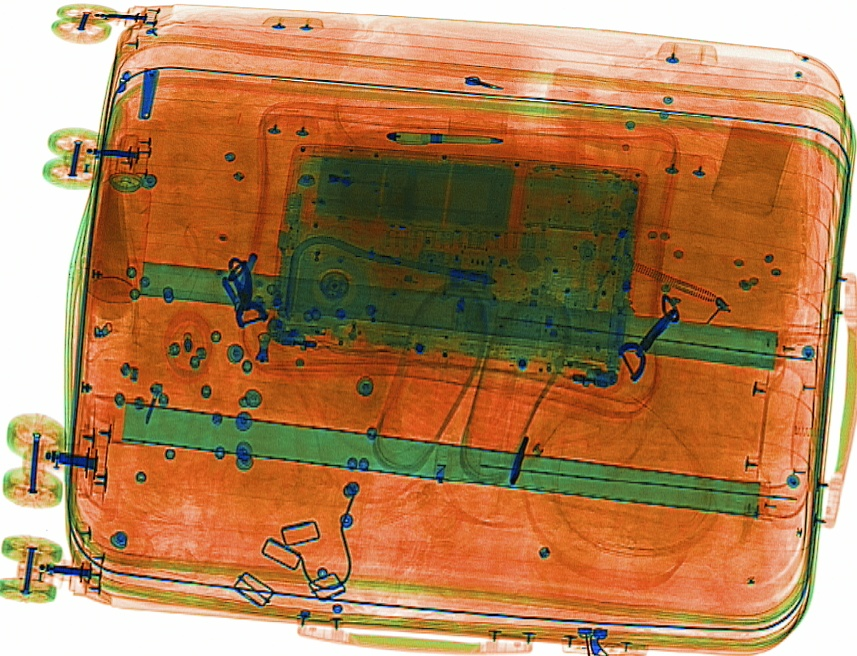pressure: (87, 126, 159, 305)
